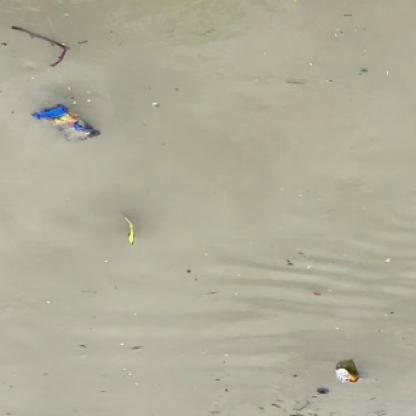Metal: (330, 360, 363, 388)
Trash: (30, 101, 103, 150)
